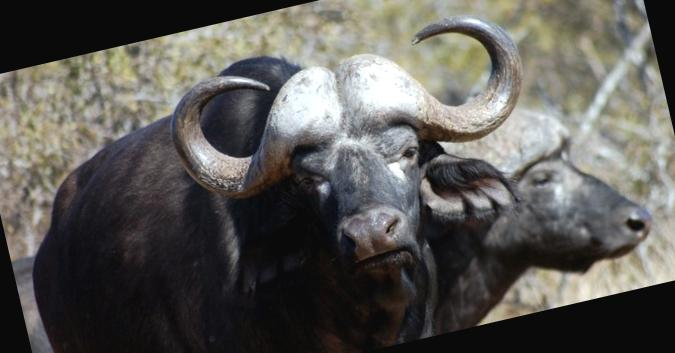Buffalo: (0, 0, 628, 353)
